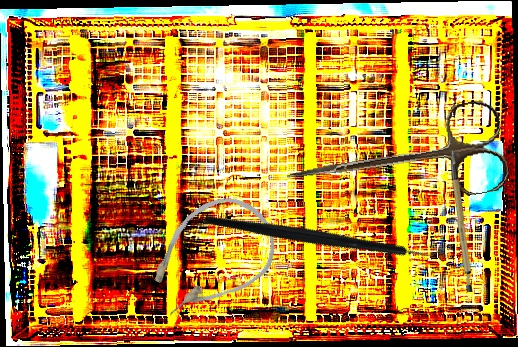Cannula: (128, 179, 292, 335)
Chopper: (202, 134, 449, 333)
Iris Scissors: (279, 97, 512, 227)
Scalpel Handle: (447, 150, 478, 292)
